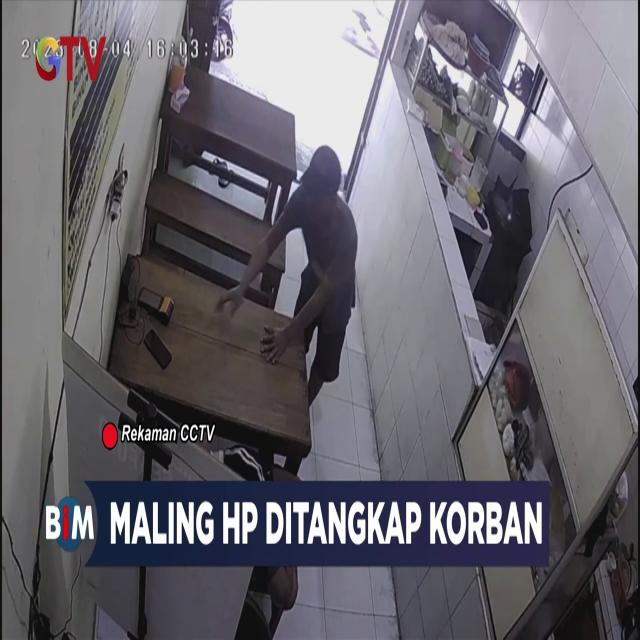pencurian: (143, 147, 359, 377)
